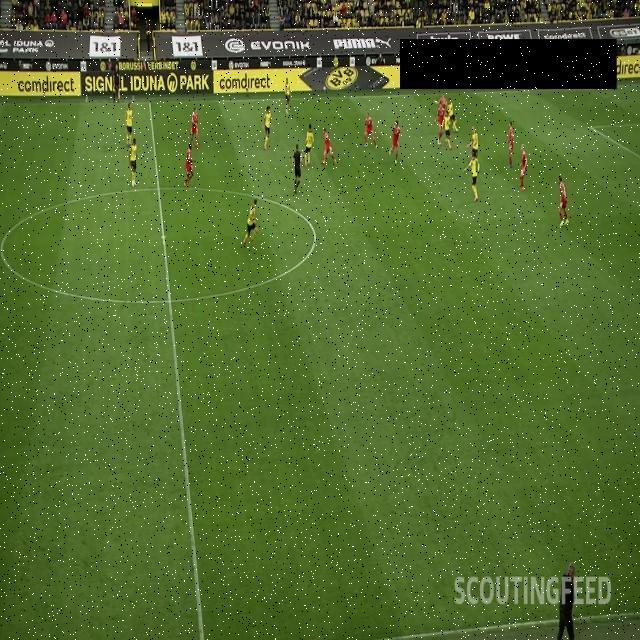Referee: (290, 143, 304, 194), (112, 62, 121, 105)
TEAM 1: (557, 176, 569, 227), (434, 92, 448, 134), (321, 128, 337, 164), (389, 119, 401, 165), (363, 112, 378, 148), (183, 142, 194, 188), (518, 144, 528, 192), (434, 103, 444, 145), (190, 106, 200, 148), (507, 120, 514, 168)
TEAM 2: (466, 150, 480, 202), (244, 198, 258, 248), (128, 137, 138, 187), (262, 106, 272, 150), (304, 123, 314, 167), (447, 98, 459, 132), (466, 126, 478, 160), (125, 102, 134, 147), (443, 110, 452, 150), (285, 76, 291, 115)
